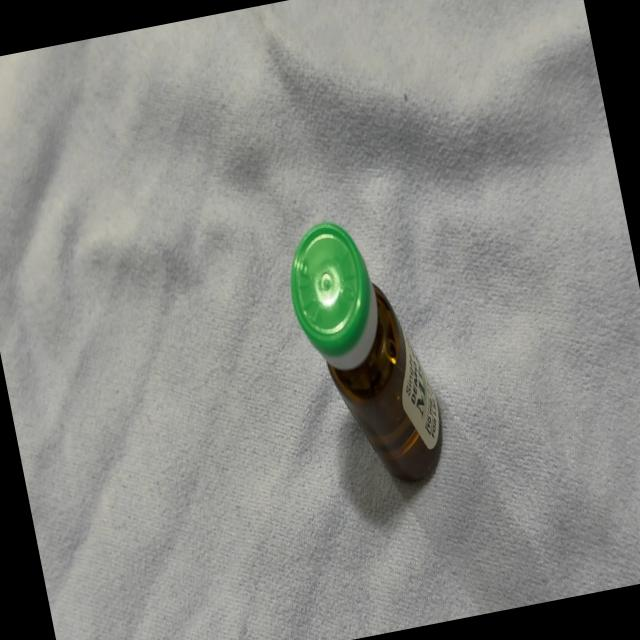midazolm: (282, 212, 449, 494)
